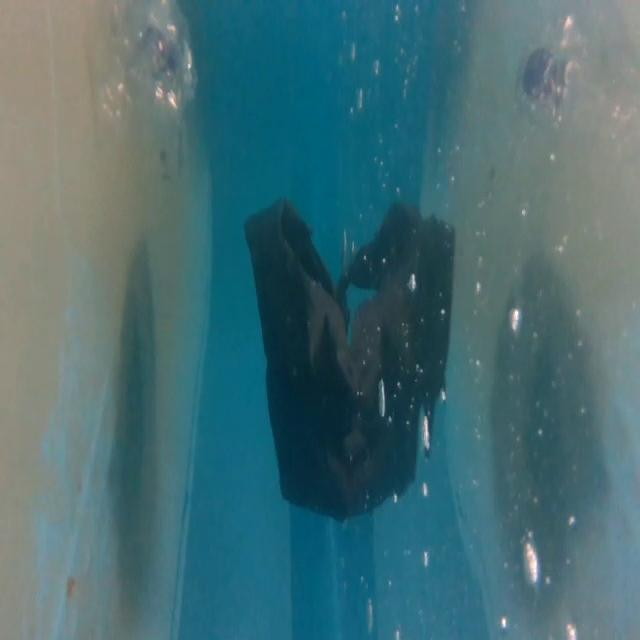plastic bags: (236, 185, 464, 526)
